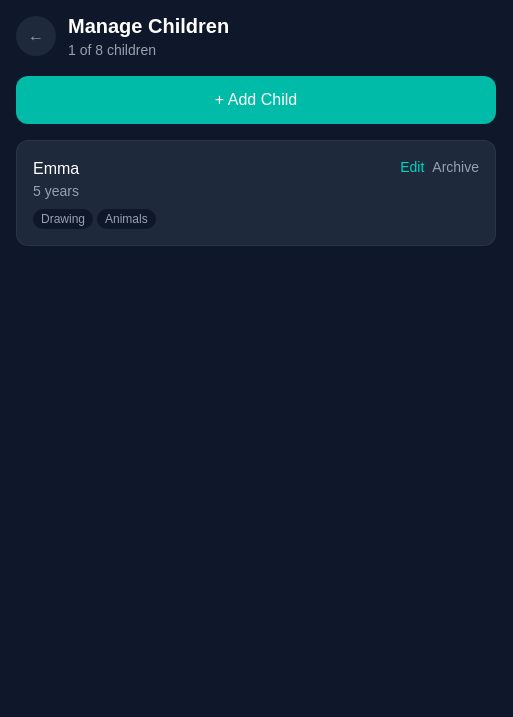
it: Profile Section › Children Management Page › opens add child form when Add Child clicked
The image size is (513, 717).
Click the button "+ Add Child": (256, 100) [16,76,496,124]
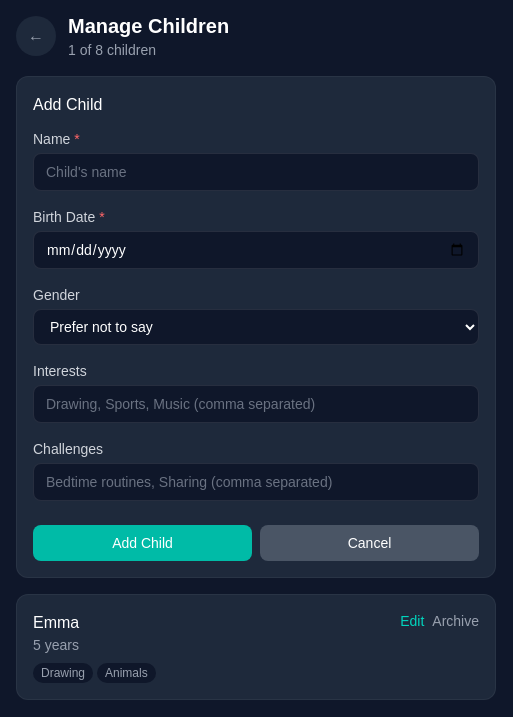
expect the field with placeholder "Child's name" is shown: met, box [33,153,479,191]
